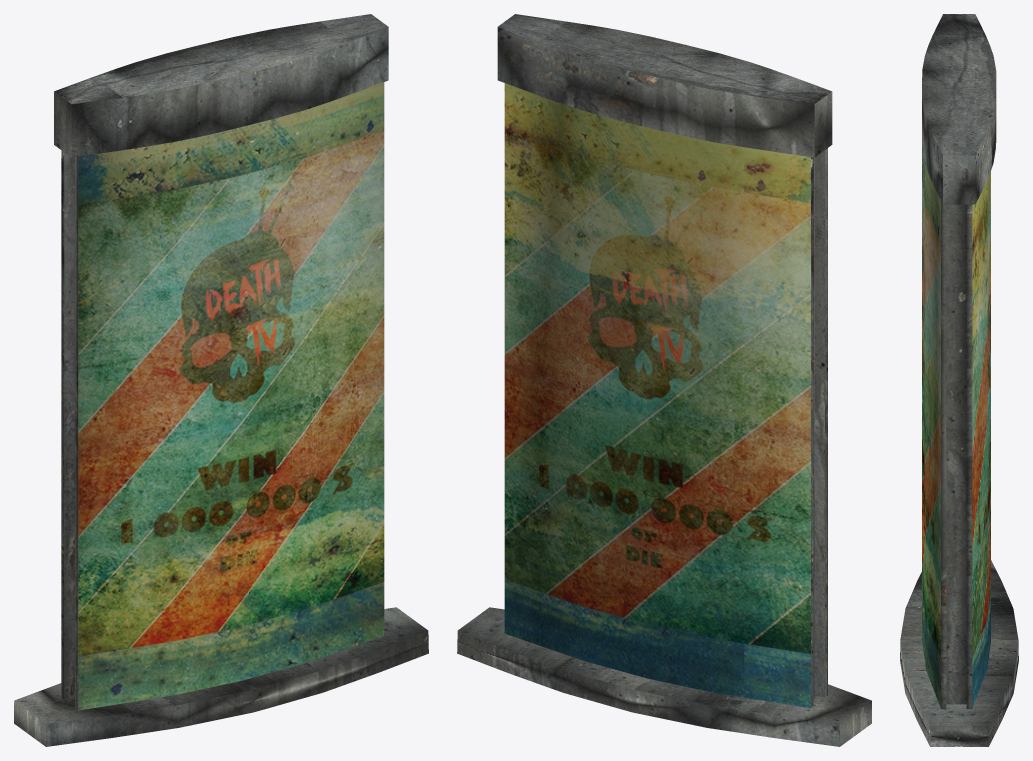
Rendered from Billboard.FBX.
The picture shows the model from 3 angles, left to right: view 1: azimuth 30°, elevation 25°; view 2: azimuth 150°, elevation 25°; view 3: azimuth 270°, elevation 25°; orthographic projection. The views are drawn at different scales.
Visible parts, largest first — view 1: default; view 2: default; view 3: default.
Boxes of the visible parts, x1,y1,x2,y2 form: default: (14, 14, 428, 746); default: (457, 14, 871, 746); default: (900, 14, 1018, 746).
Size of the model in its own units: 0.499 by 0.7842 by 0.1465.
Materials: 1 (1 with a texture image).
